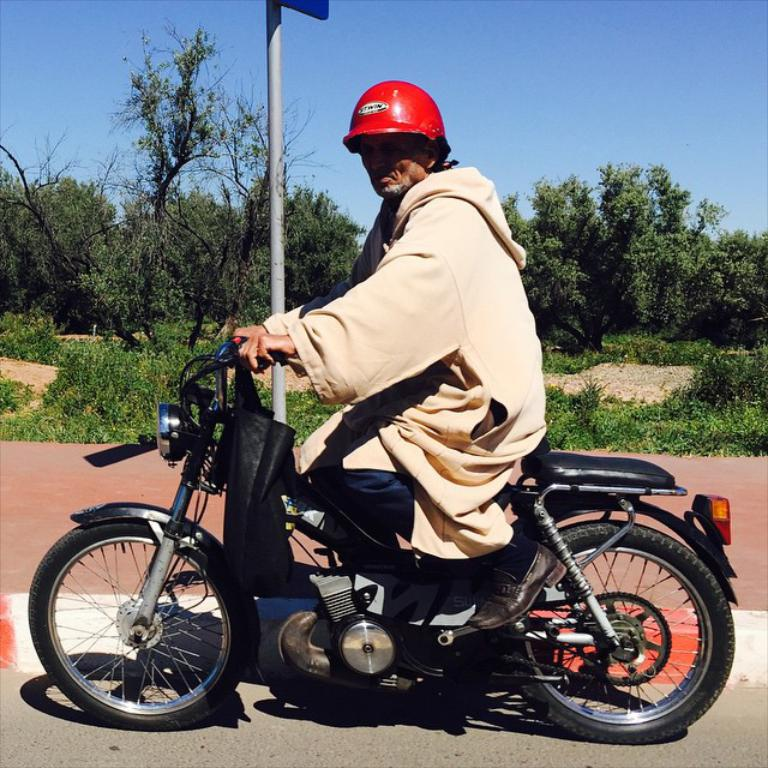Wheel: (503, 520, 734, 740), (40, 510, 230, 736)
